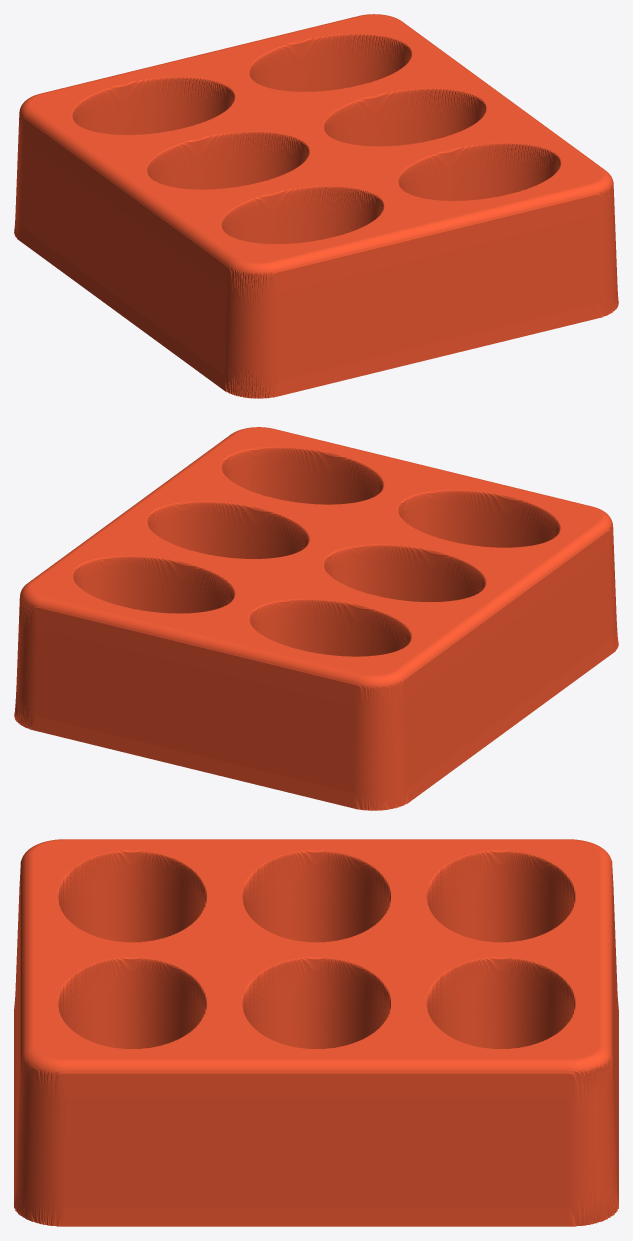
The model's file is mold.glb.
3 views of the same model, one above another, from view 1: azimuth 30°, elevation 25°; view 2: azimuth 150°, elevation 25°; view 3: azimuth 270°, elevation 25° (orthographic). The views are drawn at different scales.
Visible parts, largest first — view 1: geometry_0; view 2: geometry_0; view 3: geometry_0.
Part boxes in pixels (<box>): geometry_0: <box>14,14,618,398</box>; geometry_0: <box>14,427,618,810</box>; geometry_0: <box>14,839,618,1226</box>.
Bounding box in the file's own units: 0.0996 × 0.0314 × 0.1081.
